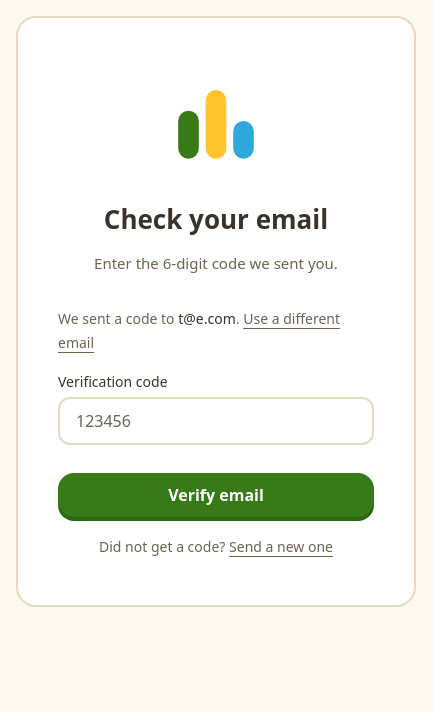
Scenario: EmailVerifyPage › falls back to a generic message when the failure has no code
The width and height of the screenshot is (433, 712).
Expected: the button "Verify email" is shown, [58, 473, 374, 517]
Type "000000" into the field labelled "Verification code" at coordinates (216, 421), box [58, 397, 374, 445]
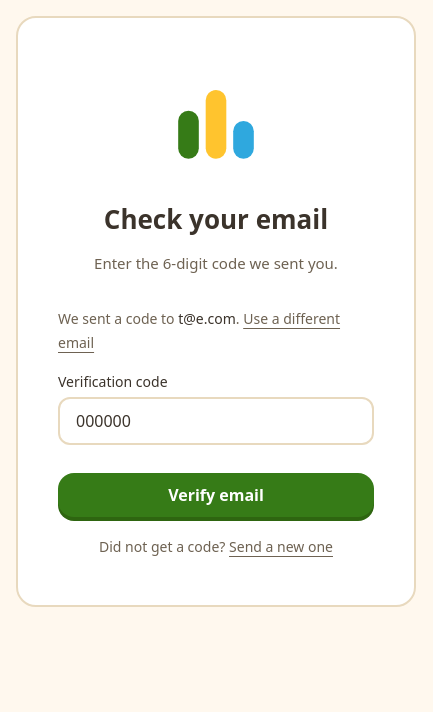
Click the button "Verify email" at coordinates (216, 495), box [58, 473, 374, 517]
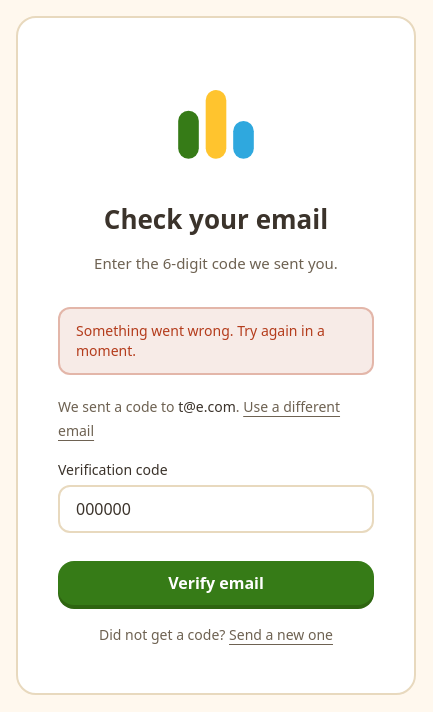
Result: the message shows "Something went wrong." at [76, 321, 325, 360]
